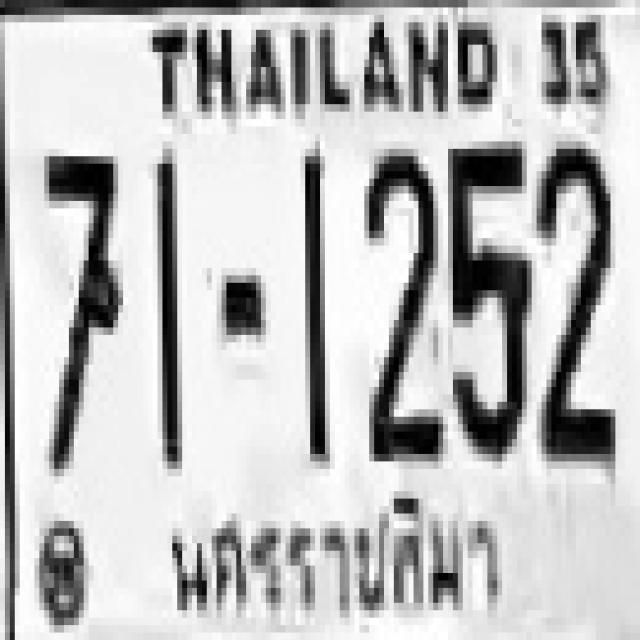1: (300, 145, 325, 443), (155, 152, 180, 442)
2: (534, 138, 608, 442), (362, 145, 436, 443), (534, 141, 608, 417), (362, 149, 436, 417)
5: (443, 138, 527, 450)
7: (39, 149, 123, 461)
NakhonRatchasima: (165, 491, 518, 635)
